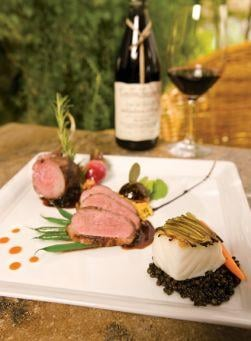curry: (0, 46, 251, 339)
sandwich: (158, 0, 228, 158)
sushi: (147, 211, 246, 307)
